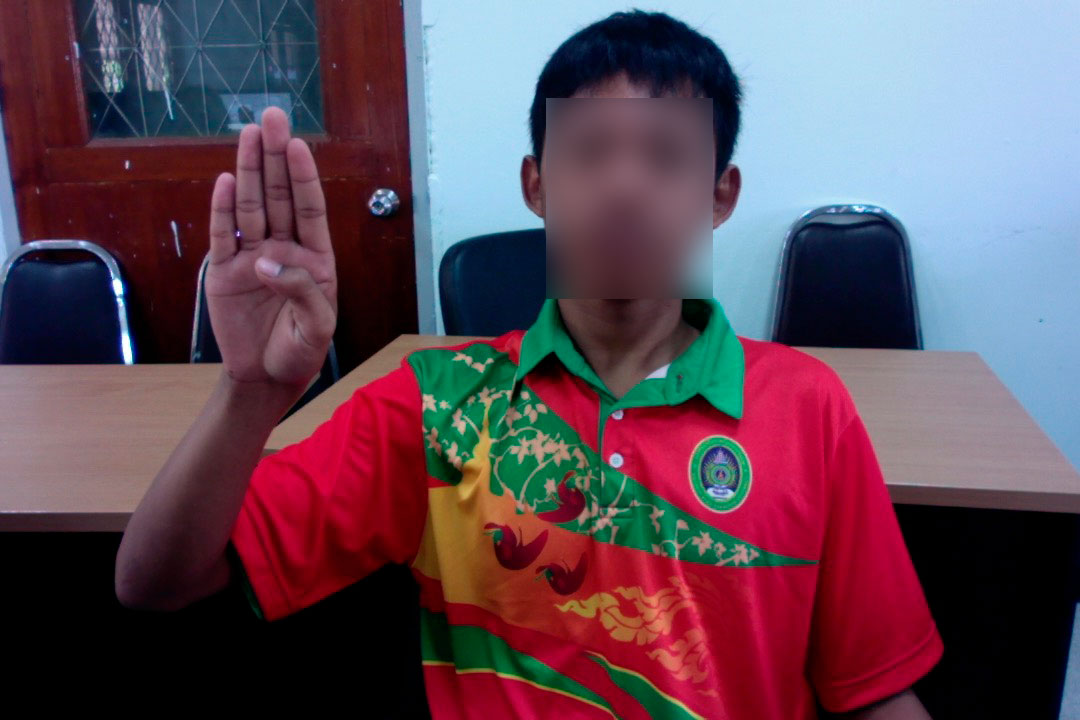bor: (198, 102, 343, 406)
